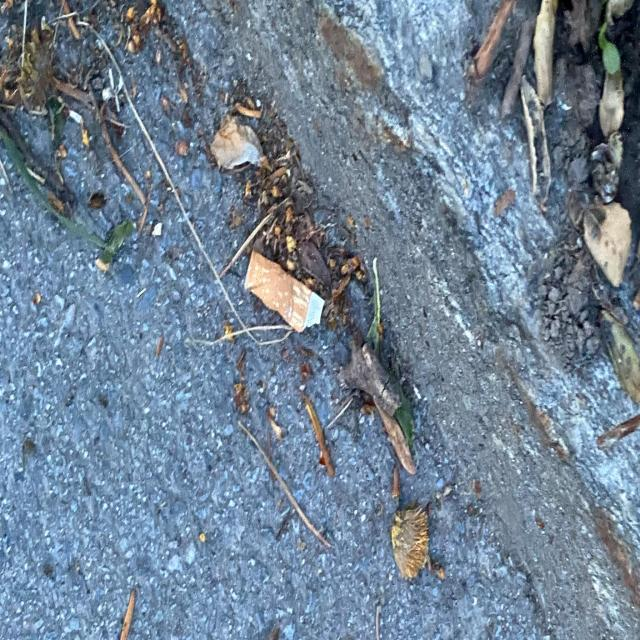other waste: (244, 248, 325, 334)
